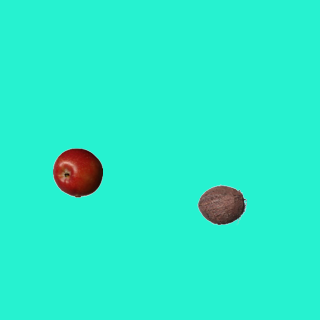Apple Braeburn: (52, 147, 102, 197)
Cocos: (196, 179, 246, 229)
